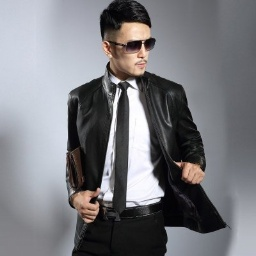face: (99, 2, 151, 77)
